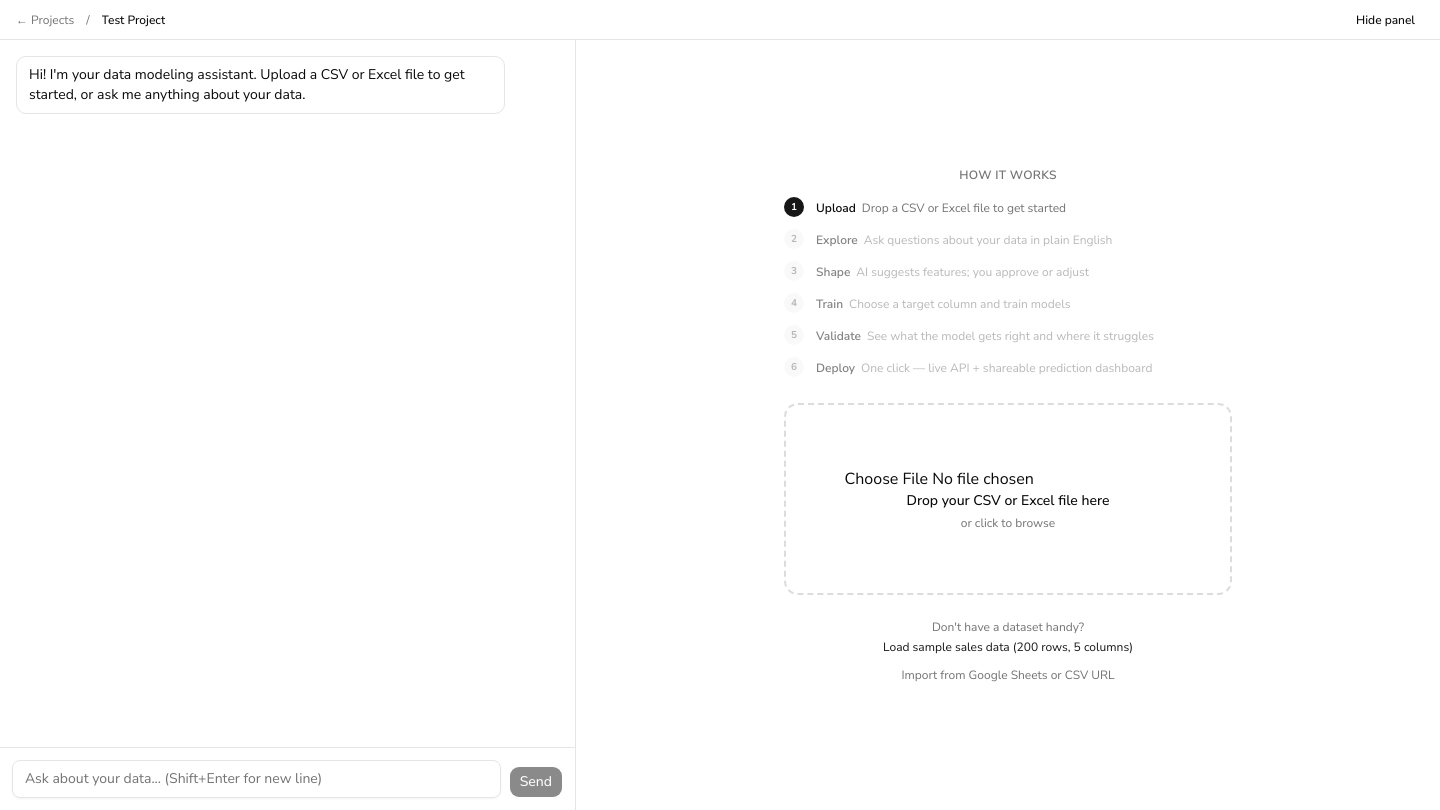
Test: Proactive upload suggestions › shows suggestion chips after sample load returns suggestions
Step 1. Click the button "Load sample sales data (200 rows, 5 columns)" → point(1008, 647), box [883, 639, 1133, 655]
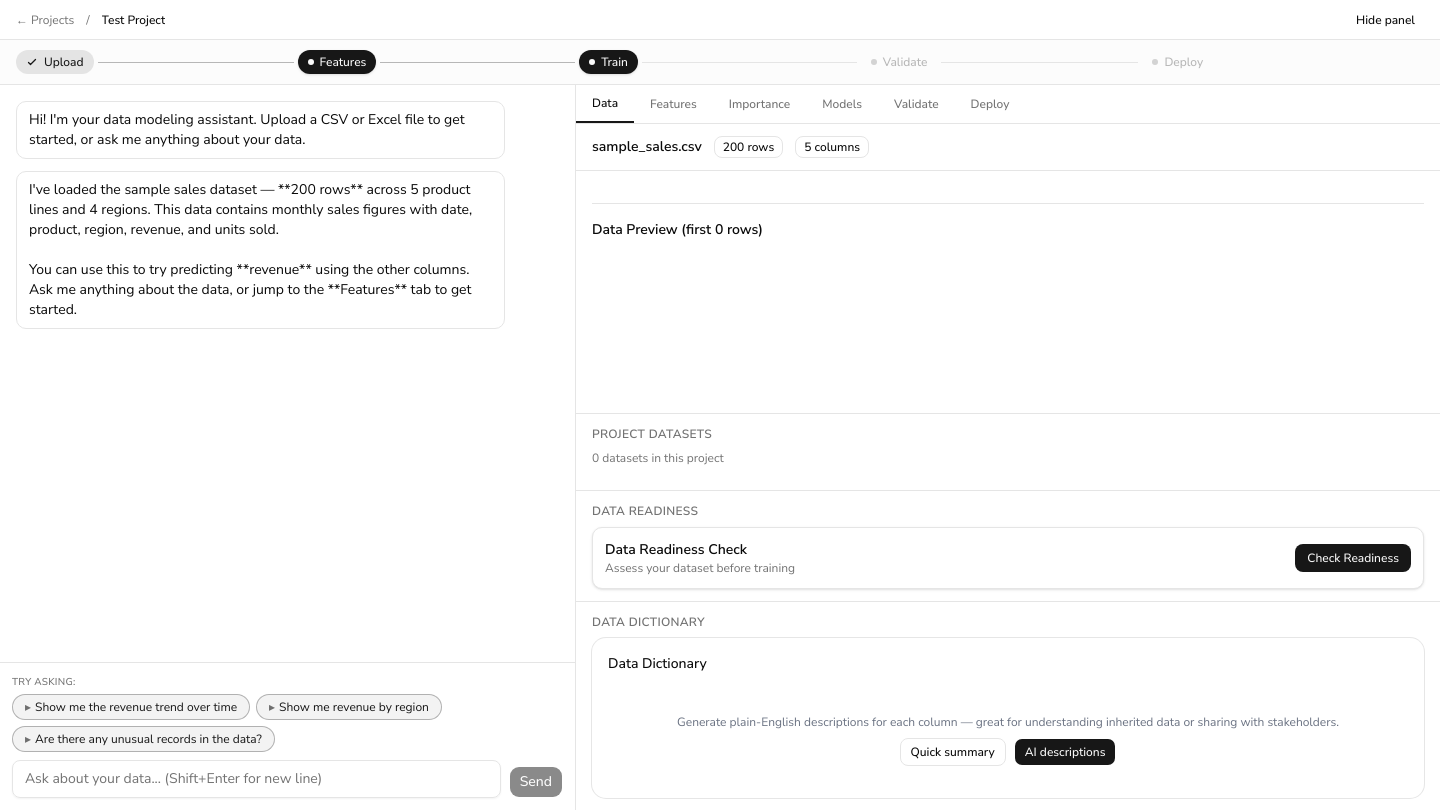
Expected: the element with test id "suggestion-chips" is shown, [12, 675, 442, 752]
Expected: the number of buttons with test id "suggestion-chip" is 3, [12, 694, 250, 720]; [256, 694, 442, 720]; [12, 726, 275, 752]
Expected: the button with test id "suggestion-chip" shows "Show me the revenue trend over time", [12, 694, 250, 720]
